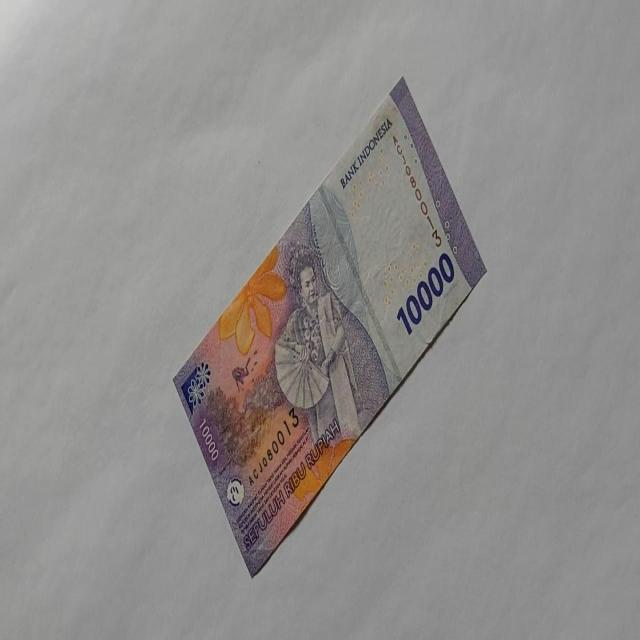Kertas: (171, 74, 487, 578), (395, 251, 455, 336)
